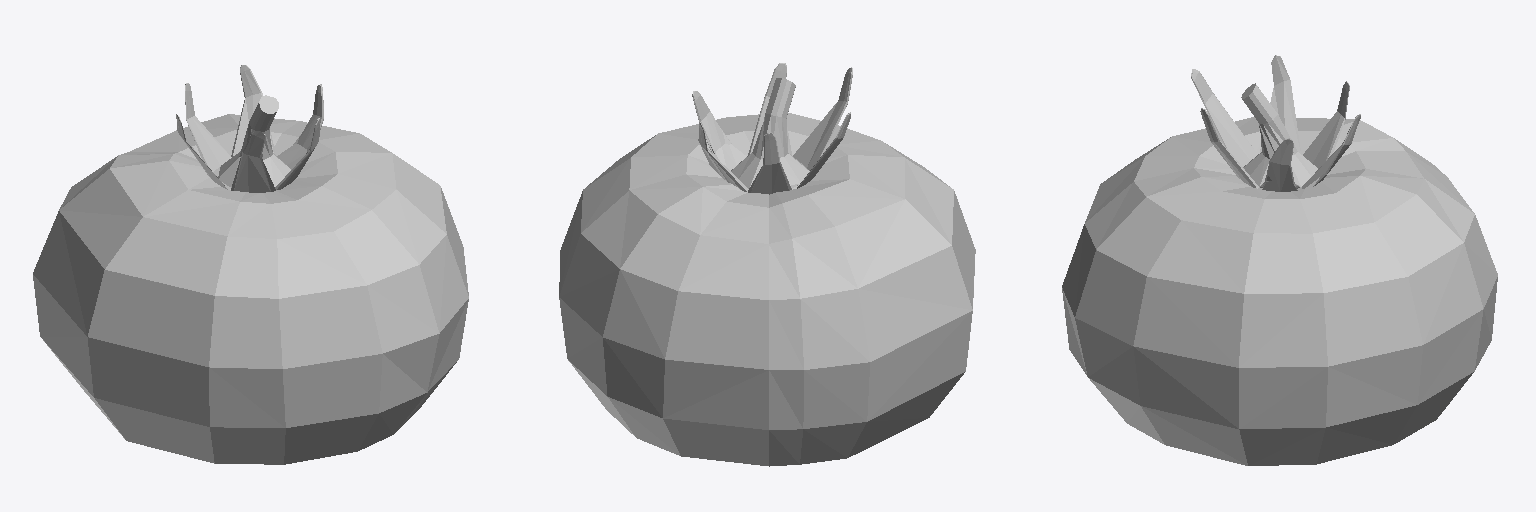
File: Tomate.obj
The picture shows the model from 3 angles: view 1: azimuth 30°, elevation 25°; view 2: azimuth 150°, elevation 25°; view 3: azimuth 270°, elevation 25°; orthographic projection.
Parts seen in each view (by area): view 1: Tomates.001_Tomate.000; view 2: Tomates.001_Tomate.000; view 3: Tomates.001_Tomate.000.
Boxes of the visible parts, box(x1,y1,x2,y2) form: Tomates.001_Tomate.000: box(33, 65, 468, 464); Tomates.001_Tomate.000: box(559, 63, 975, 466); Tomates.001_Tomate.000: box(1062, 55, 1497, 465).
Size of the model in its own units: 0.1547 by 0.1347 by 0.1566.